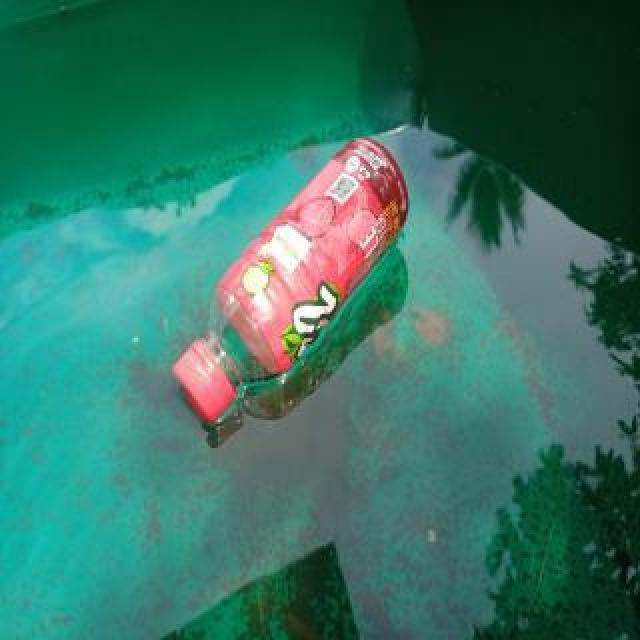bottle: (167, 130, 413, 430)
